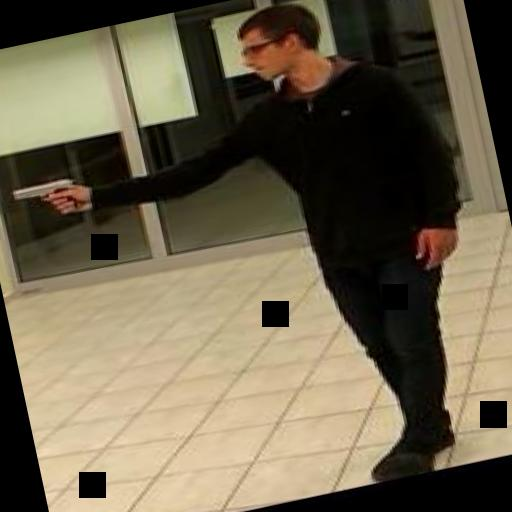Handgun: (6, 172, 87, 226)
